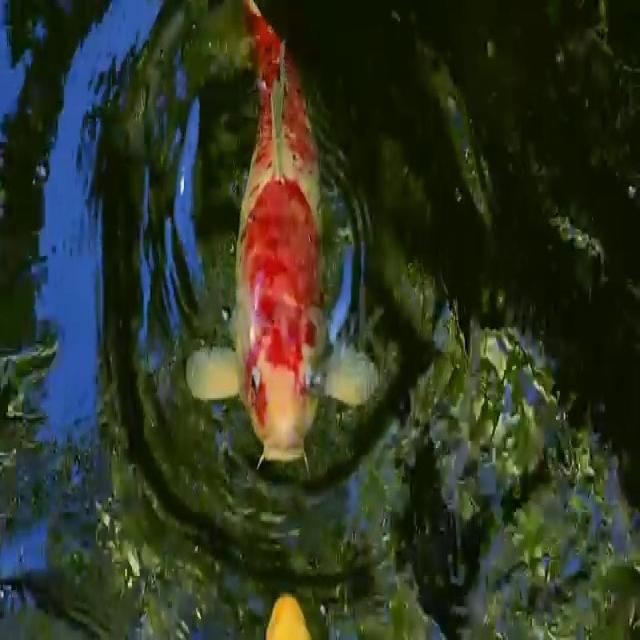fish: (175, 3, 396, 475)
